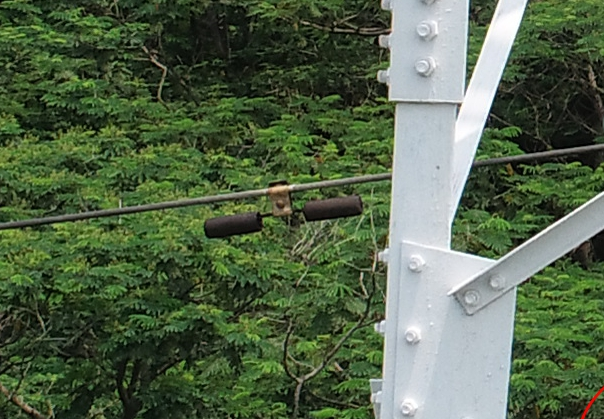damper: (201, 177, 364, 242)
